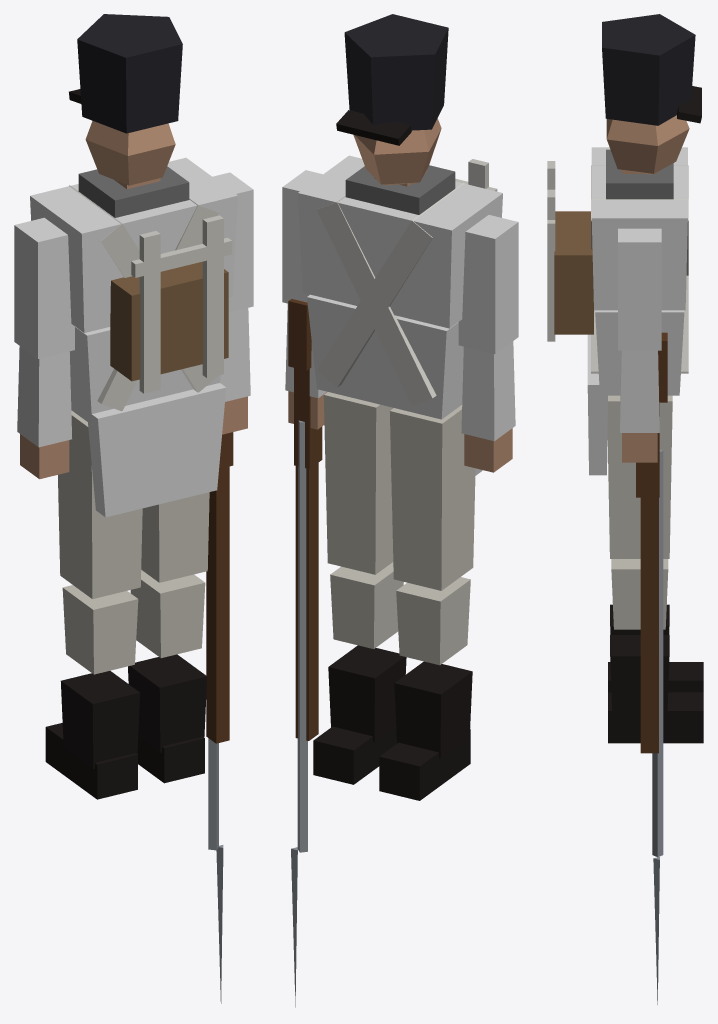
Rendered from soldier_c19_line_lod1.glb.
3 renders of one model, left to right at view 1: azimuth 30°, elevation 25°; view 2: azimuth 150°, elevation 25°; view 3: azimuth 270°, elevation 25°, orthographic. The views are drawn at different scales.
Parts seen in each view (by area): view 1: c19_line_lod1_static; view 2: c19_line_lod1_static; view 3: c19_line_lod1_static.
Boxes of the visible parts, x1,y1,x2,y2 form: c19_line_lod1_static: (14,14,253,1003); c19_line_lod1_static: (282,14,518,1007); c19_line_lod1_static: (547,14,703,1004).
Size of the model in its own units: 0.58 by 2.58 by 0.392.
